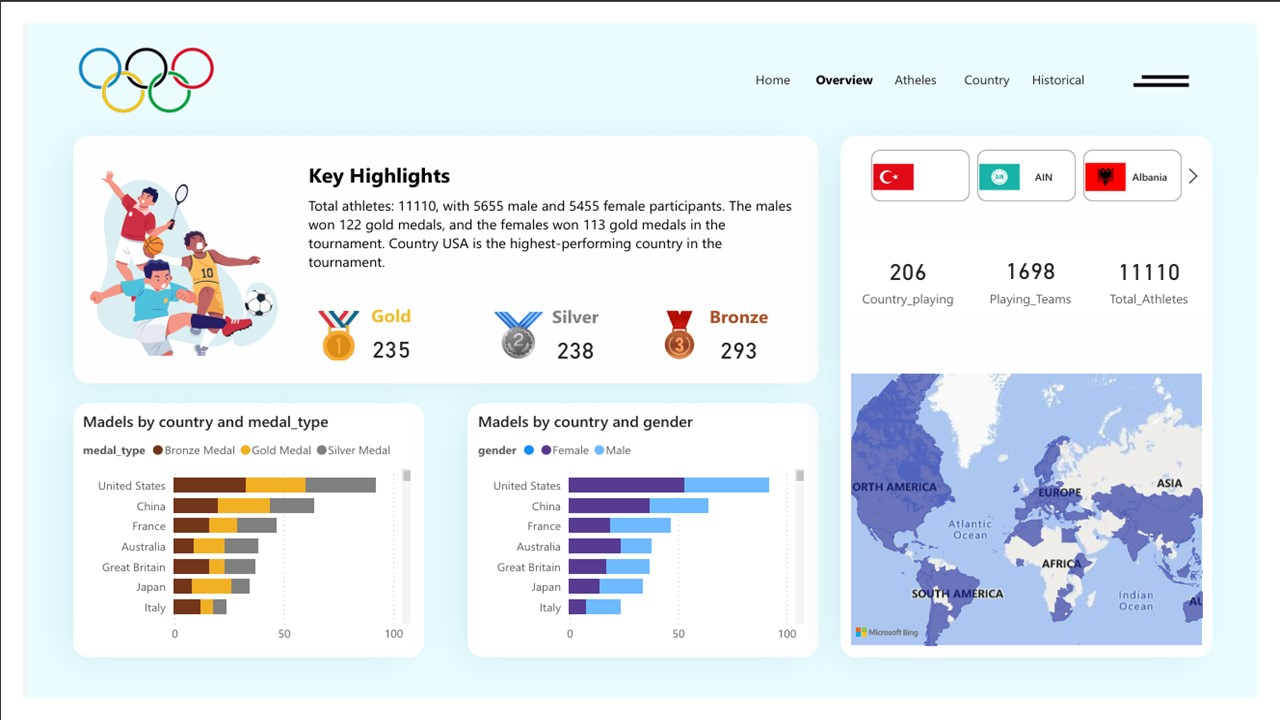

This screenshot's page, from the dashboard's own definition file:
{"tool":"powerbi","page":{"name":"Overview","canvas":[1280,720],"ordinal":1},"visuals":[{"type":"actionButton","title":"Overview Open","box":[1148.5,31.4,62.7,50.7],"z":500},{"type":"card","title":"Gold","fields":{"Values":["Olympic_Measures.Total_Gold_Madels"]},"box":[308.8,297.5,143.8,73.8],"z":1000},{"type":"card","title":"Silver","fields":{"Values":["Olympic_Measures.Total_Silver_Madels"]},"box":[503.8,298.8,136.2,72.5],"z":2000},{"type":"card","title":"Bronze","fields":{"Values":["Olympic_Measures.Total_Bronze_Medal"]},"box":[673.8,298.8,135,72.5],"z":3000},{"type":"advancedSlicerVisual","fields":{"Values":["Medallists.country"]},"box":[853.8,128.8,373.8,65],"z":4000},{"type":"filledMap","fields":{"Category":["Medallists.country"]},"box":[853.8,368.8,373.8,300],"z":5000},{"type":"barChart","fields":{"Y":["Olympic_Measures.Total_Madels"],"Category":["Medallists.country"],"Series":["Medallists.gender"]},"box":[466.2,412.5,347.5,256.2],"z":6000},{"type":"barChart","fields":{"Category":["Medallists.country"],"Y":["Olympic_Measures.Total_Madels"],"Series":["Medallists.medal_type"]},"box":[56.2,412.5,350,256.2],"z":7000},{"type":"card","fields":{"Values":["Olympic_Measures.Country_playing"]},"box":[853.8,230,126.2,83.8],"z":8000},{"type":"card","fields":{"Values":["Olympic_Measures.Playing_Teams"]},"box":[980.7,231.1,126,80.7],"z":9000},{"type":"card","fields":{"Values":["Olympic_Measures.Total_Athletes"]},"box":[1106.2,230,121.2,83.8],"z":10000},{"type":"image","box":[295,295,62.5,76.2],"z":12000},{"type":"image","box":[460,295,105,73.8],"z":13000},{"type":"image","box":[631.2,295,97.5,73.8],"z":14000},{"type":"image","box":[56.2,143.8,222.5,216.2],"z":15000},{"type":"shape","box":[295,161.2,506.2,123.8],"z":16000},{"type":"shape","box":[295,128.8,553.8,61.2],"z":17000},{"type":"image","box":[46.2,0,162.5,117.5],"z":18000},{"type":"pageNavigator","box":[745,32.5,362.5,50],"z":19000}]}

Visuals, with their boxes in screenshot pixels (x1, y1, x2, y2), scaled from the page's 1280x720 canvas onto the 1280x720 screenshot:
"Overview Open" actionButton: box(1148, 31, 1211, 82)
"Gold" card: box(309, 298, 453, 371)
"Silver" card: box(504, 299, 640, 371)
"Bronze" card: box(674, 299, 809, 371)
advancedSlicerVisual - Medallists.country: box(854, 129, 1228, 194)
filledMap - Medallists.country: box(854, 369, 1228, 669)
barChart - Olympic_Measures.Total_Madels x Medallists.country: box(466, 412, 814, 669)
barChart - Medallists.country x Olympic_Measures.Total_Madels: box(56, 412, 406, 669)
card - Olympic_Measures.Country_playing: box(854, 230, 980, 314)
card - Olympic_Measures.Playing_Teams: box(981, 231, 1107, 312)
card - Olympic_Measures.Total_Athletes: box(1106, 230, 1227, 314)
image: box(295, 295, 358, 371)
image: box(460, 295, 565, 369)
image: box(631, 295, 729, 369)
image: box(56, 144, 279, 360)
shape: box(295, 161, 801, 285)
shape: box(295, 129, 849, 190)
image: box(46, 0, 209, 118)
pageNavigator: box(745, 32, 1108, 82)
